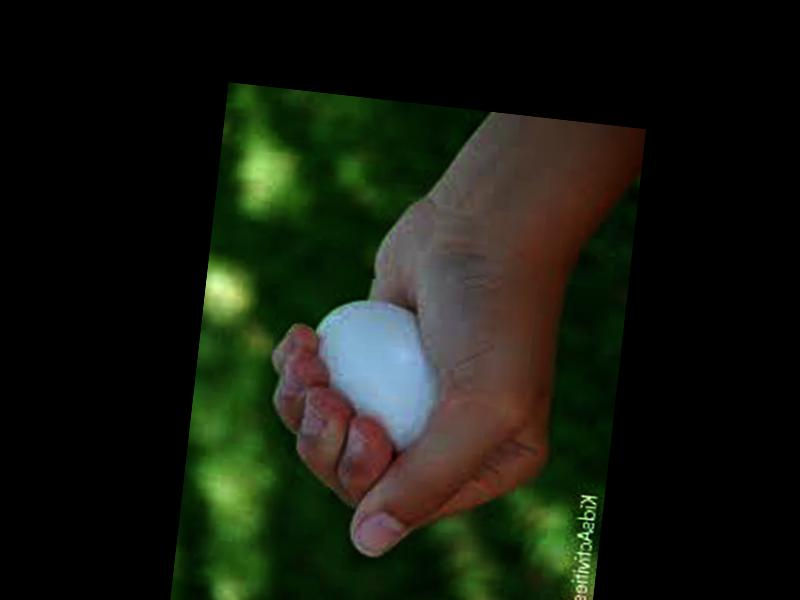Eggs: (303, 293, 439, 456)
